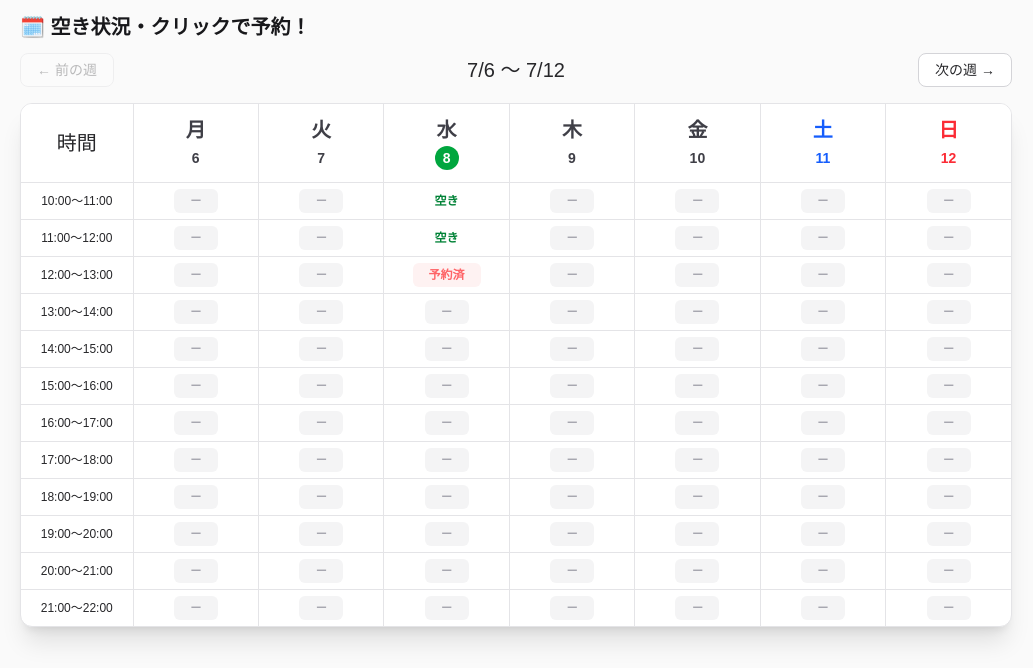
Scenario: WeeklyCalendar › 「次の週」を押すと表示される週が切り替わる
Click the button "次の週 →". click: (965,70)
box: [918, 53, 1012, 87]
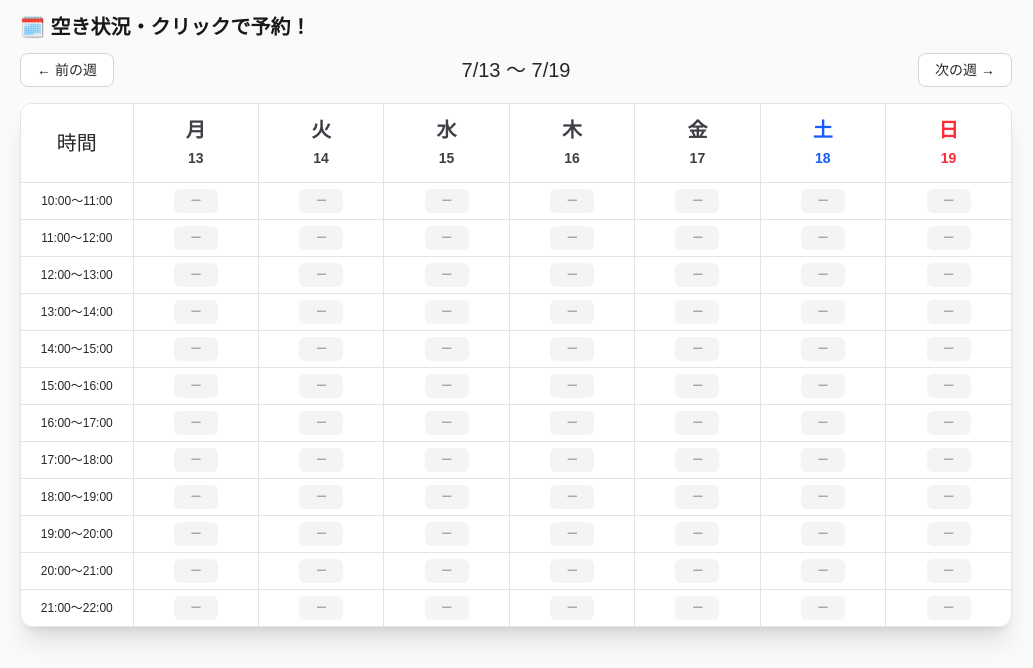
Expected: the text "7/13 〜 7/19" is shown, [462, 56, 570, 84]
